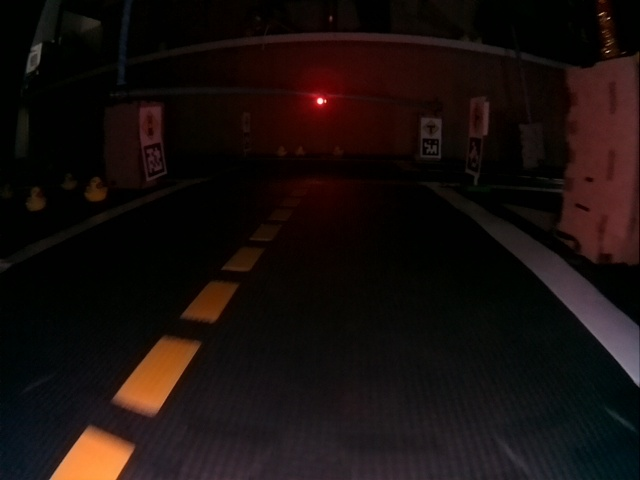Duckie: (84, 179, 108, 200), (26, 187, 44, 211), (60, 173, 77, 189), (296, 147, 305, 156), (278, 147, 286, 156), (335, 147, 343, 156)
Intersection sign: (471, 103, 483, 133), (423, 120, 440, 136)
QR code: (143, 142, 164, 177), (467, 137, 482, 173), (423, 138, 440, 156)
Signal sign: (141, 111, 160, 141)
Traffic light: (317, 95, 327, 105)
